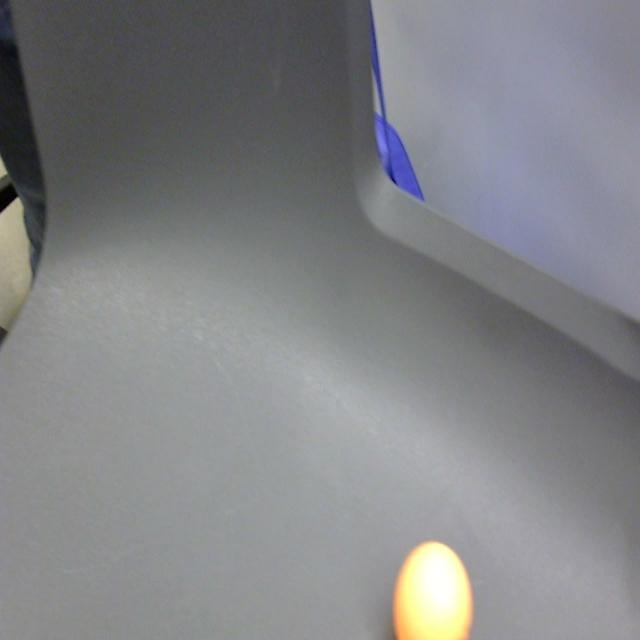ball: (392, 539, 473, 640)
